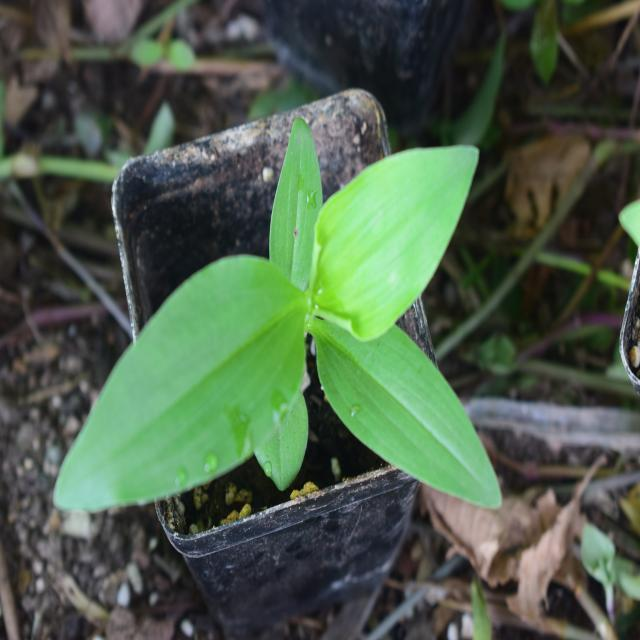Common Dayflower: (70, 140, 502, 528)
